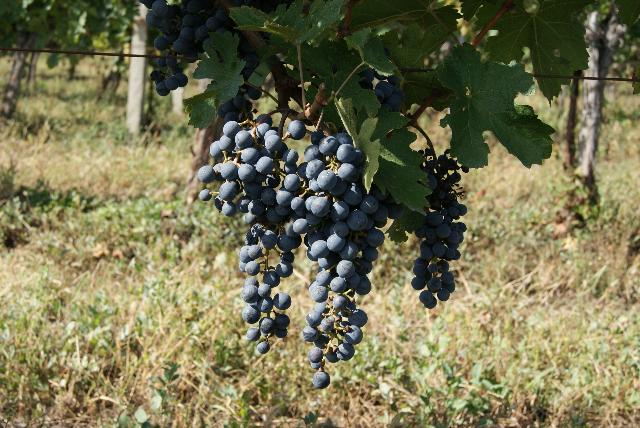grapes: (295, 135, 400, 389), (241, 165, 335, 354), (411, 154, 469, 309), (200, 121, 281, 205)
